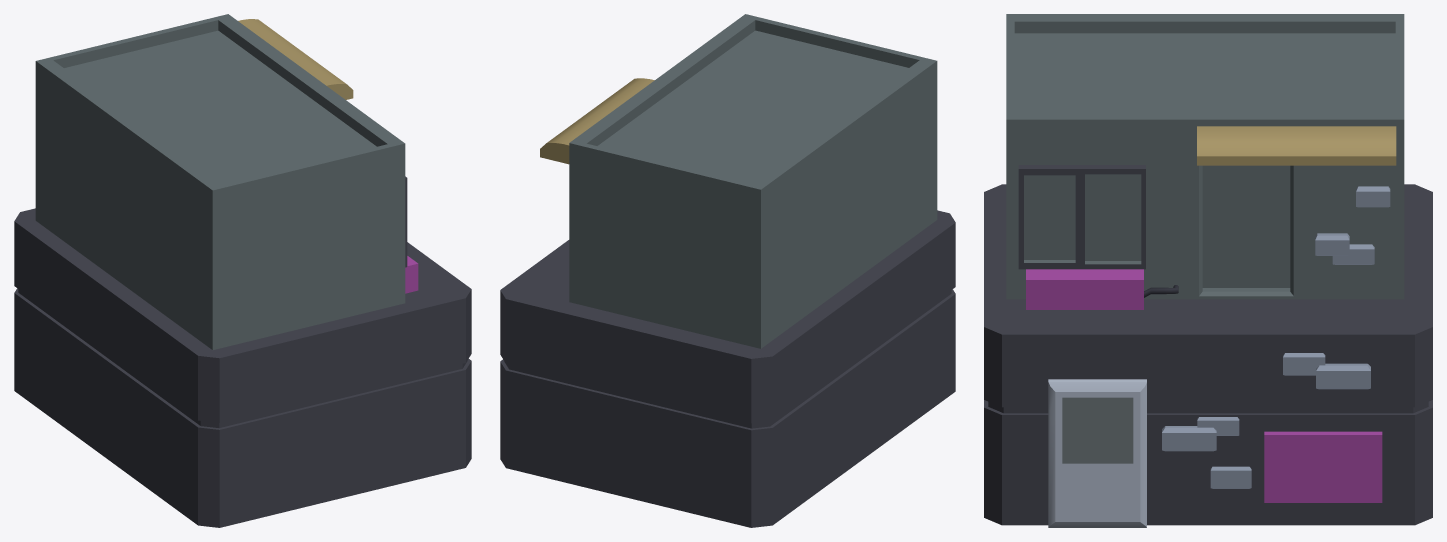
File: 8_Main.fbx
3 renders of one model, left to right at view 1: azimuth 30°, elevation 25°; view 2: azimuth 150°, elevation 25°; view 3: azimuth 270°, elevation 25°, orthographic. The views are drawn at different scales.
Visible parts, largest first — view 1: pasted__pCube2, pasted__pCube107, pasted__pCube16; view 2: pasted__pCube2, pasted__pCube107, pasted__pCube16; view 3: pasted__pCube2, pasted__pCube107, pCube66, pasted__pCube16, pCube67, pasted__pCube111, pasted__pCube5, pasted__pCube108, pasted__pCube114, pasted__pCube112, pasted__pCube113, pasted__pCube110 (+1 smaller).
Boxes of the visible parts, x1,y1,x2,y2 form: pasted__pCube2: (35,14,407,349); pasted__pCube107: (14,208,471,527); pasted__pCube16: (238,19,353,99); pasted__pCube2: (569,14,937,348); pasted__pCube107: (500,210,955,527); pasted__pCube16: (540,78,654,164); pasted__pCube2: (1006,14,1404,299); pasted__pCube107: (984,184,1432,527); pCube66: (1264,431,1382,502); pasted__pCube16: (1197,126,1396,165); pCube67: (1026,269,1143,309); pasted__pCube111: (1316,363,1370,389); pasted__pCube5: (1162,426,1216,451); pasted__pCube108: (1210,466,1251,488); pasted__pCube114: (1283,353,1325,375); pasted__pCube112: (1315,233,1349,255); pasted__pCube113: (1356,186,1390,207); pasted__pCube110: (1332,244,1374,264).
Size of the model in its own units: 5.19 by 5.8 by 6.37.
